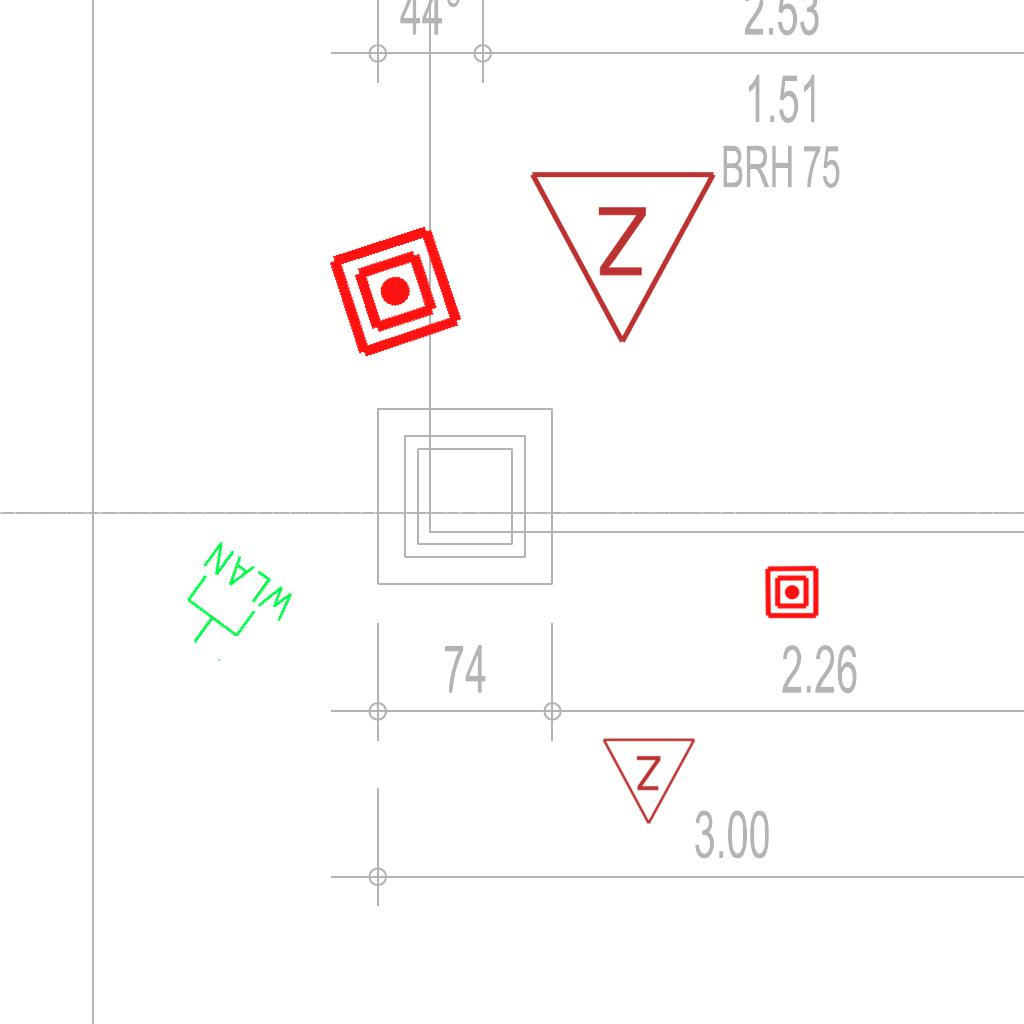NAM-Nichtautomatischer_Melder: (324, 220, 467, 363), (764, 564, 820, 620)
WLAN: (157, 535, 305, 682)
Zimmersignalleuchte: (527, 157, 723, 357), (601, 731, 699, 831)
